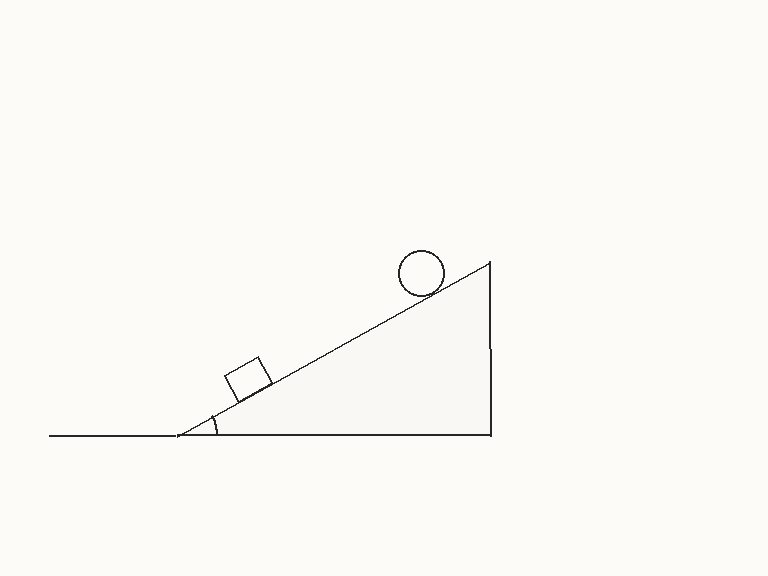ball: (396, 248, 446, 298)
block: (222, 355, 274, 403)
ramp: (175, 259, 492, 437)
